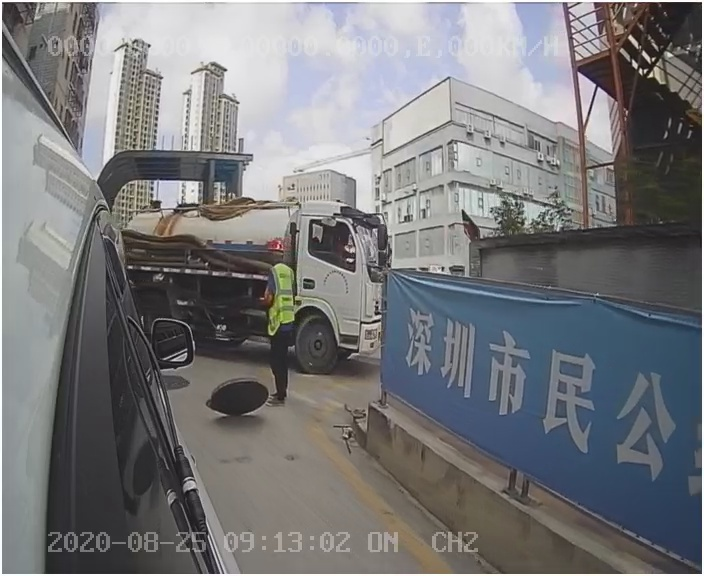person: (257, 238, 300, 410)
